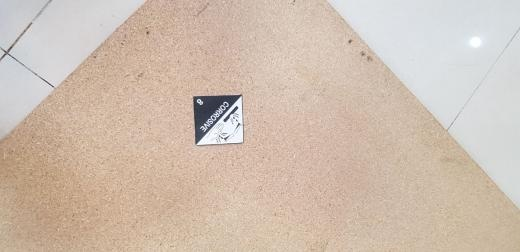Corrosive: (193, 95, 243, 146)
